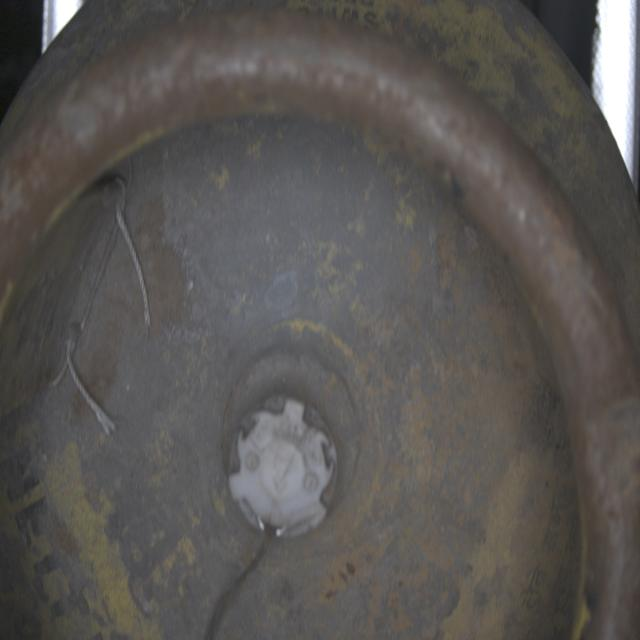Cap: (232, 395, 339, 543)
